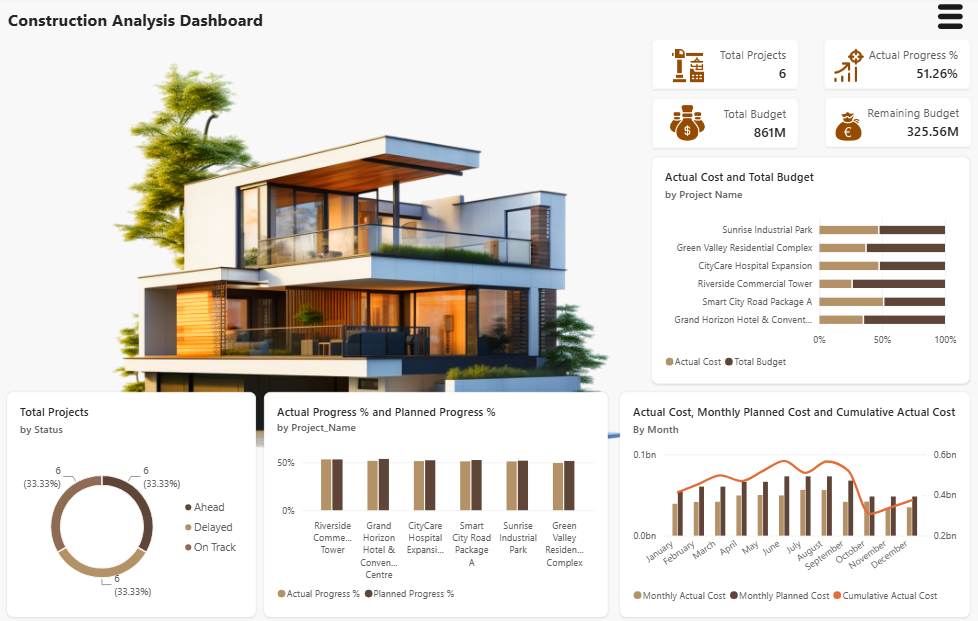

This screenshot's page, from the dashboard's own definition file:
{"tool":"powerbi","page":{"name":"Page 1","canvas":[1280,820],"ordinal":0},"visuals":[{"type":"image","box":[1214,4,44.5,43.1],"z":0},{"type":"image","box":[0,0,932.4,715.5],"z":1000},{"type":"cardVisual","fields":{"Data":["DAX.Total Projects"]},"box":[850,55,190,65],"z":2000},{"type":"cardVisual","fields":{"Data":["DAX.Total Budget"]},"box":[850,130.7,190,65],"z":3000},{"type":"cardVisual","fields":{"Data":["DAX.Remaining Budget"]},"box":[1073.9,130,190,65],"z":4000},{"type":"cardVisual","fields":{"Data":["DAX.Actual Progress %"]},"box":[1073,55,190,65],"z":5000},{"type":"hundredPercentStackedBarChart","title":"Actual Cost and Total Budget","fields":{"Category":["Projects.Project_Name"],"Y":["DAX.Actual Cost","DAX.Total Budget"]},"box":[850.2,207.5,412.3,293.7],"z":6000},{"type":"donutChart","fields":{"Category":["Activities.Status"],"Y":["DAX.Total Projects"]},"box":[13.5,512,323.4,292.4],"z":7000},{"type":"clusteredColumnChart","fields":{"Category":["Projects.Project_Name"],"Y":["DAX.Actual Progress %","DAX.Planned Progress %"]},"box":[346.3,512,446,292.4],"z":8000},{"type":"lineClusteredColumnComboChart","title":"Actual Cost, Monthly Planned Cost and Cumulative Actual Cost","fields":{"Category":["Monthly_Summary.Month.Variation.Date Hierarchy.Month"],"Y":["Sum(Monthly_Summary.Actual_Cost)","DAX.Monthly Planned Cost"],"Y2":["Sum(Monthly_Summary.Cumulative_Actual_Cost)"]},"box":[808.4,512,454.1,292.4],"z":9000},{"type":"textbox","box":[14.8,14.8,404.2,41.8],"z":10000},{"type":"image","box":[1080.6,148.2,48.5,40.4],"z":11000},{"type":"image","box":[866.4,138.8,57.9,48.5],"z":12000},{"type":"image","box":[867.7,63.3,57.9,48.5],"z":13000},{"type":"image","box":[1075.2,66,52.5,47.2],"z":14000}]}

Visuals, with their boxes in screenshot pixels (x1, y1, x2, y2), scaled from the page's 1280x820 canvas onto the 978x621 screenshot:
image: (928,3,962,36)
image: (0,0,712,542)
cardVisual - DAX.Total Projects: (649,42,795,91)
cardVisual - DAX.Total Budget: (649,99,795,148)
cardVisual - DAX.Remaining Budget: (821,98,966,148)
cardVisual - DAX.Actual Progress %: (820,42,965,91)
"Actual Cost and Total Budget" hundredPercentStackedBarChart: (650,157,965,380)
donutChart - Activities.Status x DAX.Total Projects: (10,388,257,609)
clusteredColumnChart - Projects.Project_Name x DAX.Actual Progress %: (265,388,605,609)
"Actual Cost, Monthly Planned Cost and Cumulative Actual Cost" lineClusteredColumnComboChart: (618,388,965,609)
textbox: (11,11,320,43)
image: (826,112,863,143)
image: (662,105,706,142)
image: (663,48,707,85)
image: (822,50,862,86)
